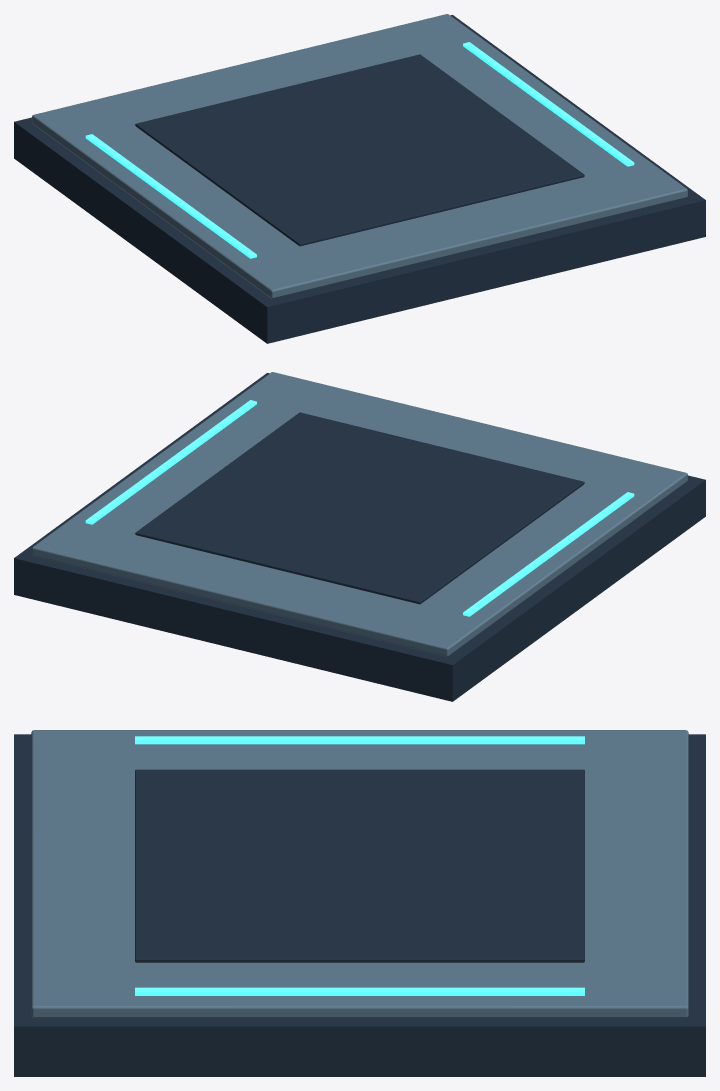
The model's file is floor-tile.glb.
3 views of the same model, one above another, from view 1: azimuth 30°, elevation 25°; view 2: azimuth 150°, elevation 25°; view 3: azimuth 270°, elevation 25° (orthographic). The views are drawn at different scales.
Parts seen in each view (by area): view 1: deck, inset, foundation, edge-light-0.86, edge-light--0.86; view 2: deck, inset, foundation, edge-light-0.86, edge-light--0.86; view 3: deck, inset, foundation, edge-light--0.86, edge-light-0.86.
Part boxes in pixels (bbox=[...]): deck: bbox=[32, 14, 687, 298]; inset: bbox=[135, 54, 584, 246]; foundation: bbox=[14, 15, 705, 343]; edge-light-0.86: bbox=[463, 42, 634, 166]; edge-light--0.86: bbox=[85, 134, 256, 258]; deck: bbox=[32, 372, 687, 656]; inset: bbox=[135, 412, 584, 604]; foundation: bbox=[14, 373, 705, 701]; edge-light-0.86: bbox=[85, 400, 256, 524]; edge-light--0.86: bbox=[463, 492, 634, 616]; deck: bbox=[31, 730, 688, 1018]; inset: bbox=[135, 769, 584, 962]; foundation: bbox=[14, 734, 705, 1076]; edge-light--0.86: bbox=[135, 736, 584, 744]; edge-light-0.86: bbox=[135, 987, 584, 995].
Size of the model in its own units: 2 by 0.212 by 2.
